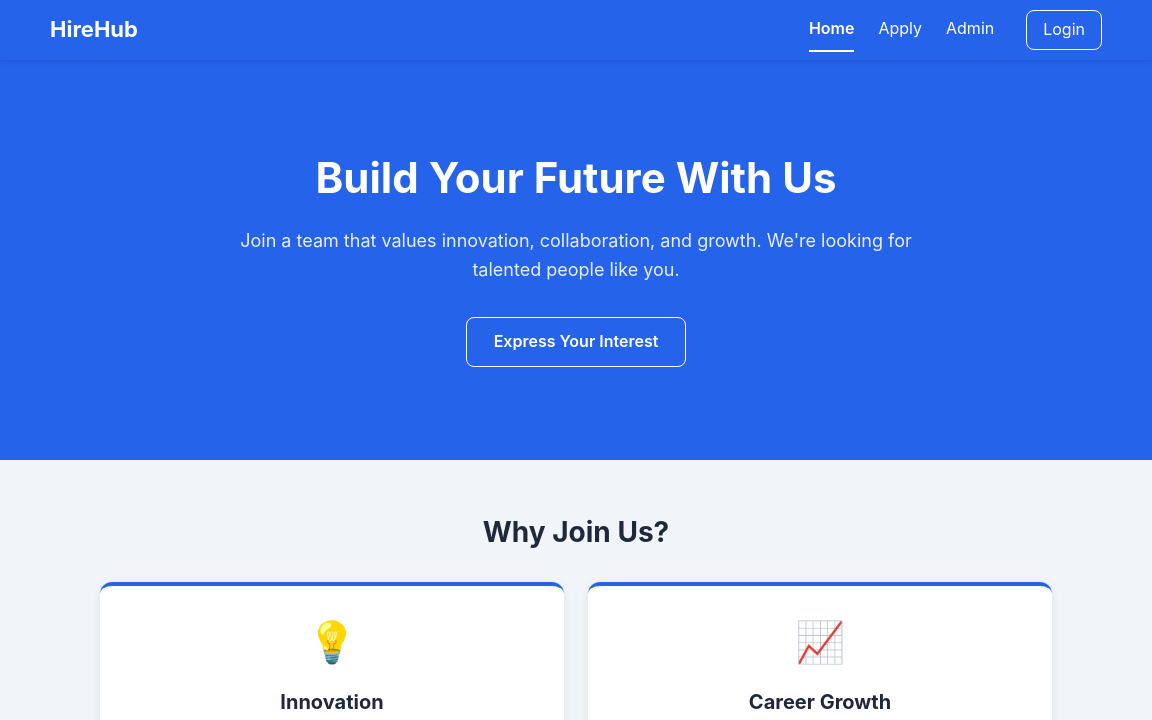
Test case: App › activates Express Your Interest through the real route shell
Click the link "Express Your Interest".
click(576, 342)  # box [466,317,686,367]
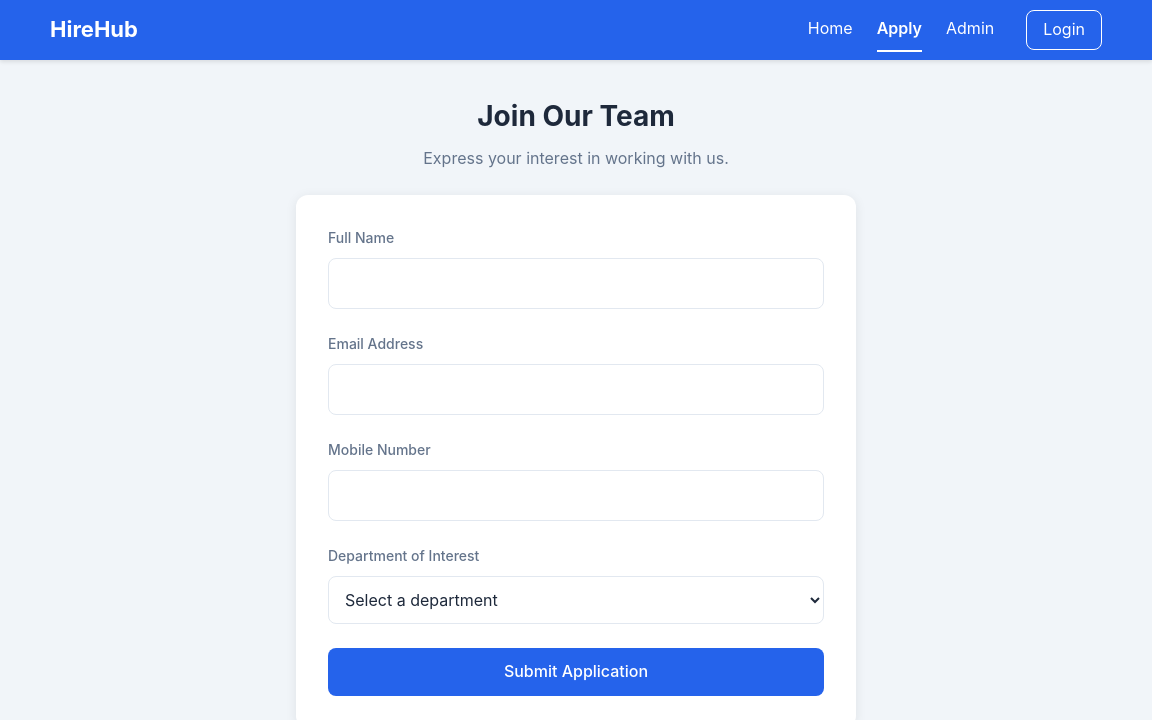
Expected: the heading "Join Our Team" is shown, [477,99,675,133]
Expected: the button "Submit Application" is shown, [328,648,824,696]
